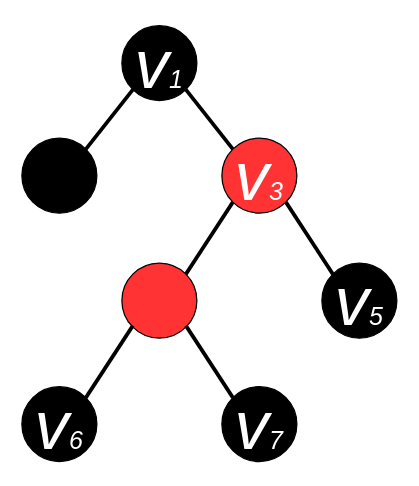
Image size: 419x486. Some labels were removed from this diagram. The shapes that lost their labels are listed below. From the top down, each one's centre as x and y in pixels, then its label:
point (59, 175): v 2
point (159, 300): v 4
